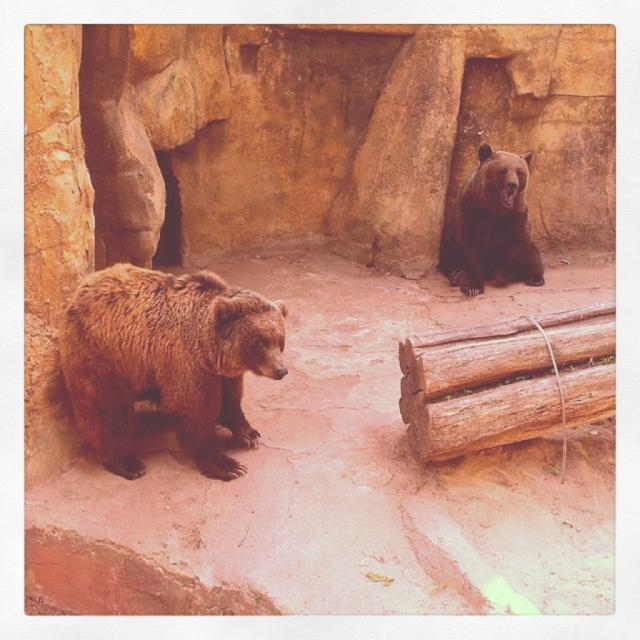Cheetahs: (55, 261, 291, 483), (440, 138, 545, 297)
